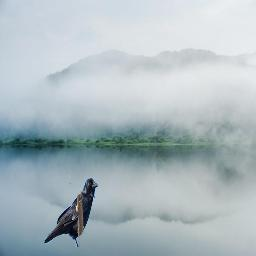Crow: (44, 177, 98, 247)
